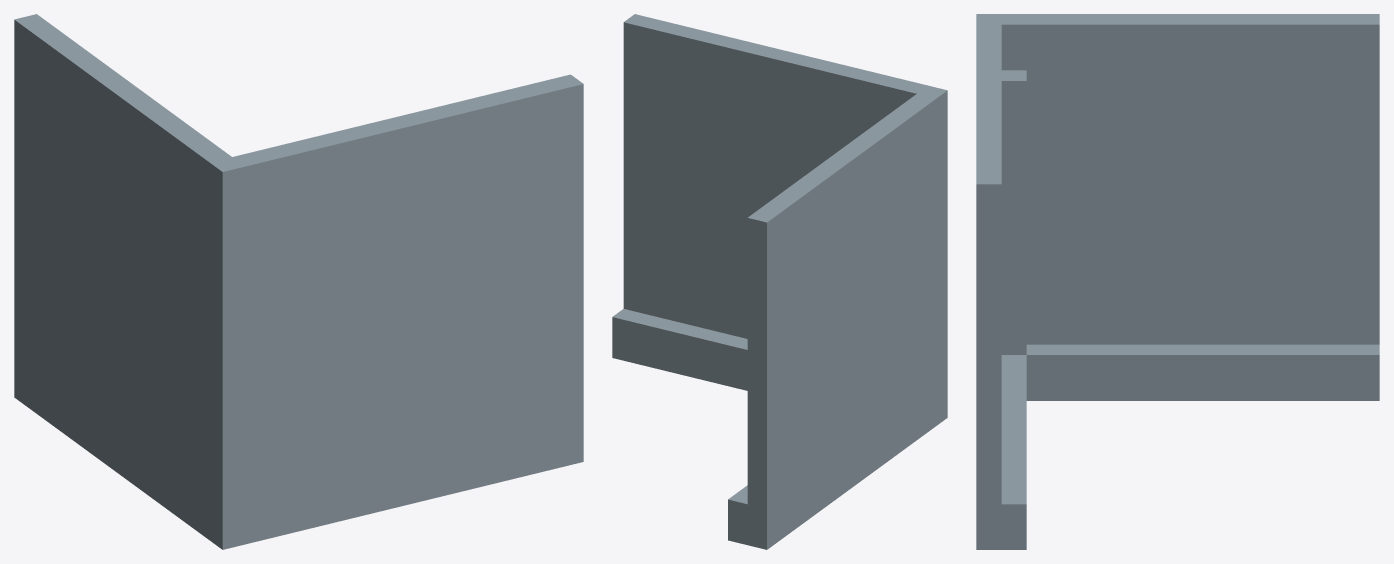
The model's file is corner.glb.
The picture shows the model from 3 angles, left to right: view 1: azimuth 30°, elevation 25°; view 2: azimuth 150°, elevation 25°; view 3: azimuth 270°, elevation 25°; orthographic projection. The views are drawn at different scales.
Parts seen in each view (by area): view 1: corner; view 2: corner; view 3: corner.
Part boxes in pixels (<box>): corner: <box>14,14,583,549</box>; corner: <box>612,14,947,549</box>; corner: <box>976,14,1379,549</box>.
Bounding box in the file's own units: 2 × 2 × 2.
